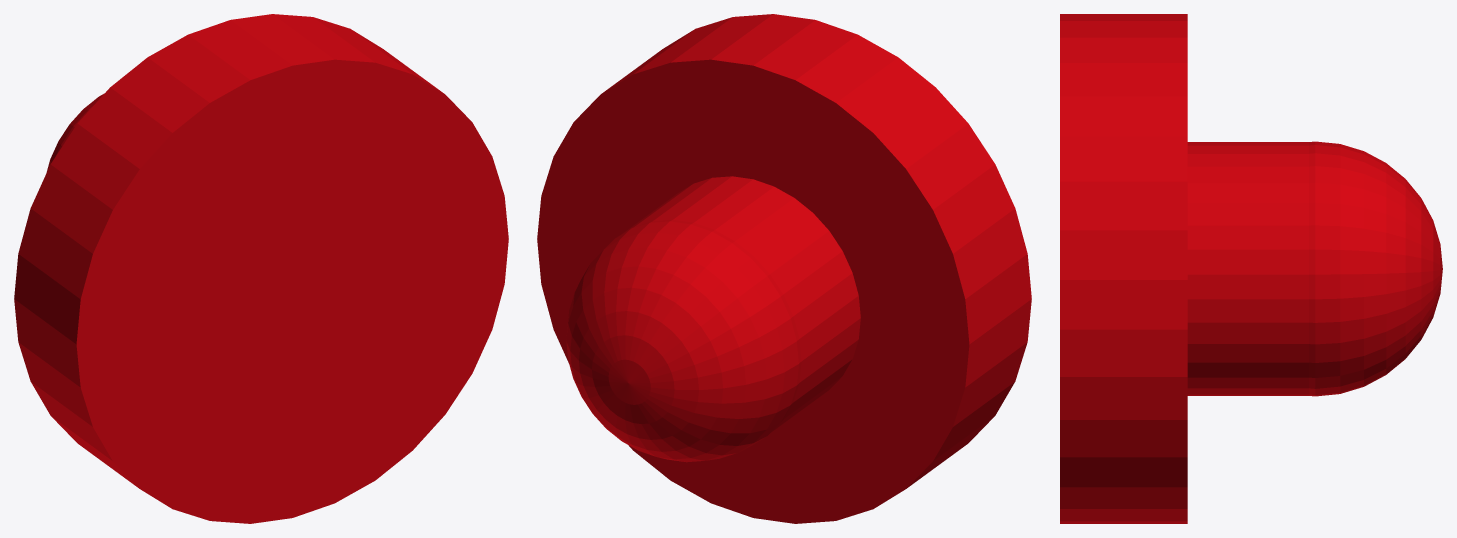
File: paddle_old.fbx
The picture shows the model from 3 angles, left to right: view 1: azimuth 30°, elevation 25°; view 2: azimuth 150°, elevation 25°; view 3: azimuth 270°, elevation 25°; orthographic projection. The views are drawn at different scales.
Parts seen in each view (by area): view 1: Cylinder; view 2: Cylinder; view 3: Cylinder.
Part boxes in pixels (x1,y1,x2,y2): Cylinder: (14, 14, 508, 523); Cylinder: (537, 14, 1031, 523); Cylinder: (1060, 14, 1442, 523).
Bounding box in the file's own units: 2 × 2 × 1.5.
